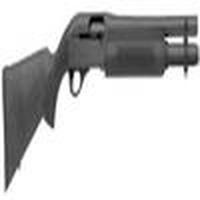gun: (1, 11, 200, 171)
